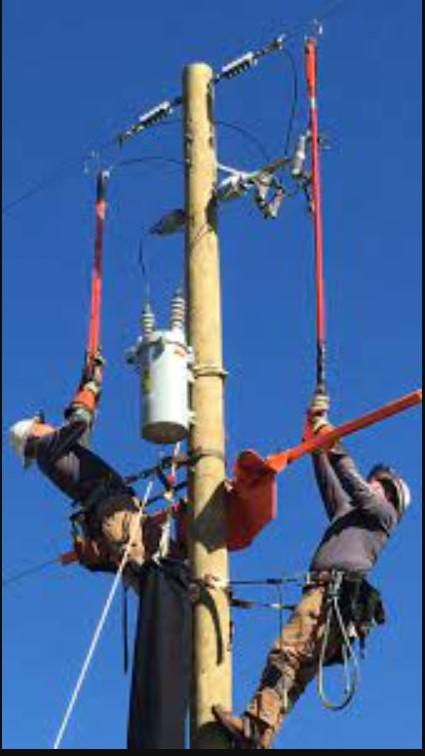Vara_Manobra: (302, 36, 327, 462), (85, 168, 107, 405)
